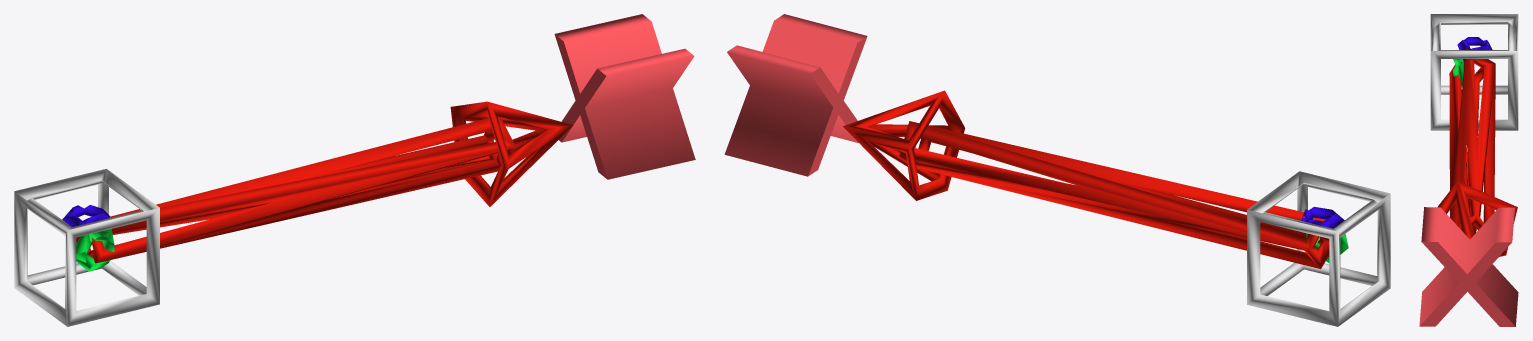
File: EjeX.fbx
3 views of the same model, side by side, from view 1: azimuth 30°, elevation 25°; view 2: azimuth 150°, elevation 25°; view 3: azimuth 270°, elevation 25° (orthographic). The views are drawn at different scales.
Visible parts, largest first — view 1: z.002, Text.002; view 2: z.002, Text.002; view 3: z.002, Text.002.
Boxes of the visible parts, box(x1,y1,x2,y2) form: z.002: box(14, 101, 573, 326); Text.002: box(554, 14, 695, 179); z.002: box(843, 90, 1390, 326); Text.002: box(724, 14, 867, 176); z.002: box(1430, 14, 1518, 256); Text.002: box(1419, 207, 1518, 326).
Size of the model in its own units: 434 by 82.39 by 72.34.
